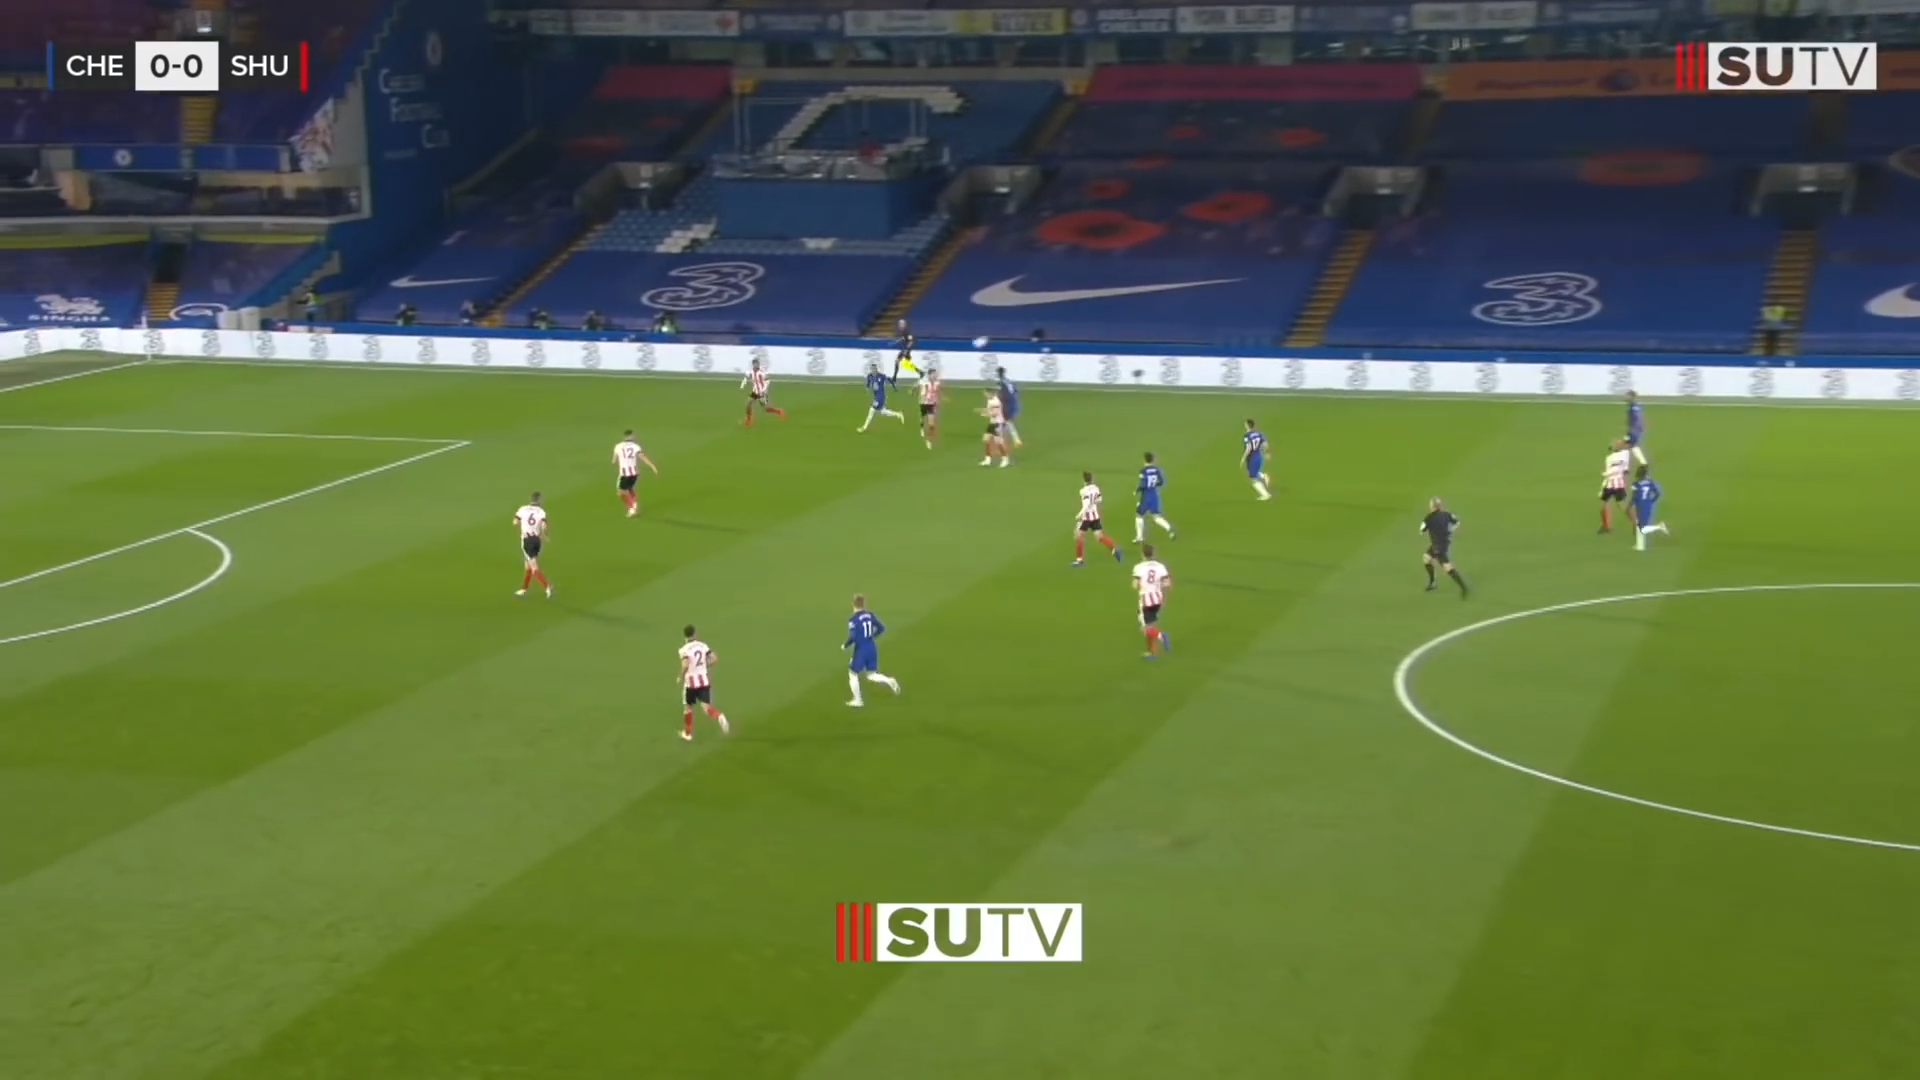Player: (837, 575, 921, 711), (659, 605, 739, 747), (1121, 532, 1186, 659), (1218, 414, 1287, 507), (506, 485, 560, 601), (609, 430, 657, 519)
